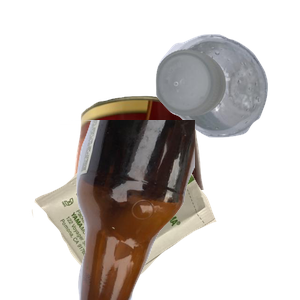glass: (60, 120, 300, 300)
metal: (69, 93, 265, 273)
plastic: (153, 31, 300, 161)
trash: (29, 124, 238, 300)
